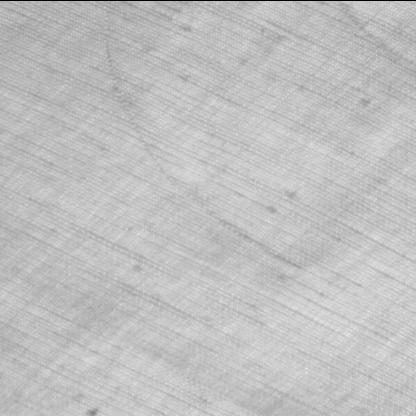objects: (100, 38, 307, 272)
